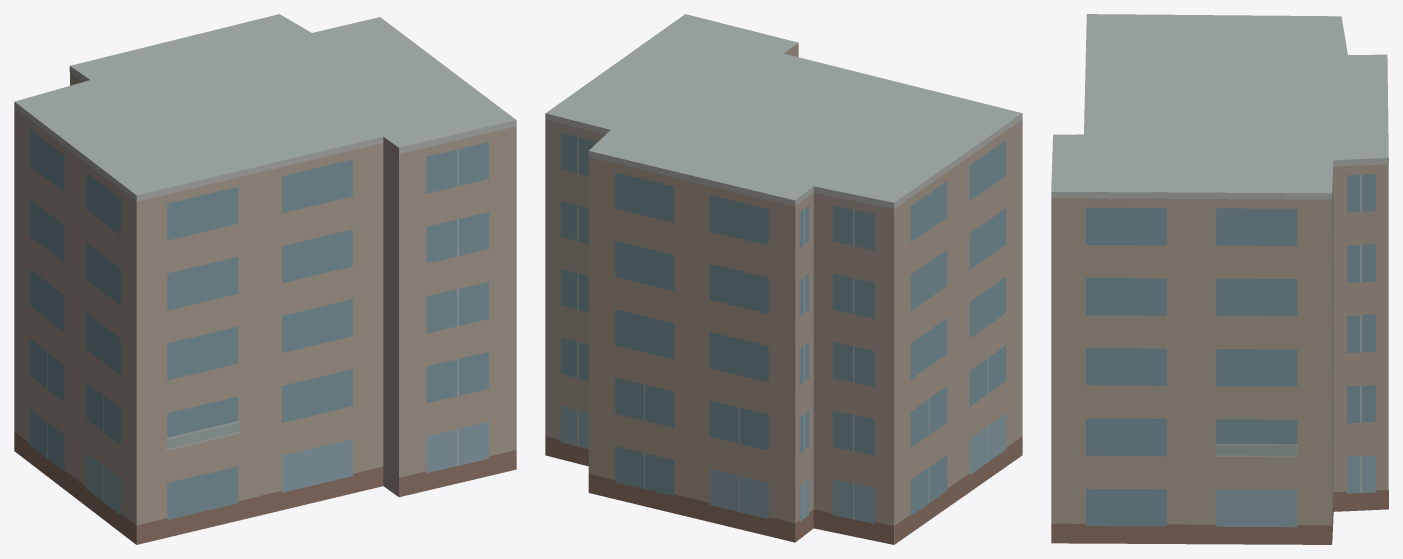
The model's file is survey-upis-32816867.glb.
3 renders of one model, left to right at view 1: azimuth 30°, elevation 25°; view 2: azimuth 150°, elevation 25°; view 3: azimuth 270°, elevation 25°, orthographic. The views are drawn at different scales.
Parts seen in each view (by area): view 1: survey-upis-32816867.tmp; view 2: survey-upis-32816867.tmp; view 3: survey-upis-32816867.tmp.
Boxes of the visible parts, x1=… form: survey-upis-32816867.tmp: x1=14, y1=14, x2=516, y2=544; survey-upis-32816867.tmp: x1=545, y1=14, x2=1022, y2=544; survey-upis-32816867.tmp: x1=1051, y1=14, x2=1388, y2=544.
Size of the model in its own units: 14.8 by 13.5 by 11.76.
